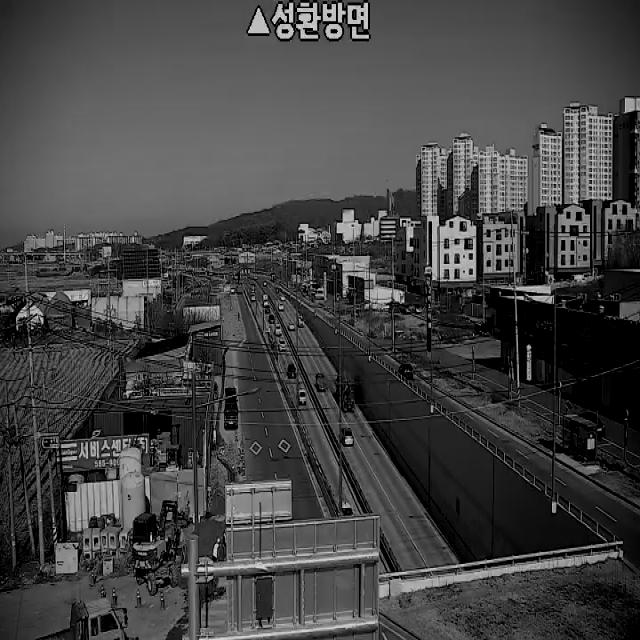Car: (573, 411, 604, 441), (341, 427, 354, 446), (398, 364, 412, 378), (342, 501, 354, 516), (316, 373, 326, 391), (288, 363, 296, 379), (278, 337, 286, 351), (300, 388, 306, 406), (275, 323, 282, 336), (269, 314, 275, 324), (288, 322, 295, 330), (265, 304, 270, 313), (279, 302, 284, 310)
Truck: (125, 492, 188, 596), (34, 597, 128, 640), (336, 374, 355, 412), (223, 388, 237, 428), (262, 294, 268, 307), (299, 314, 304, 328)
